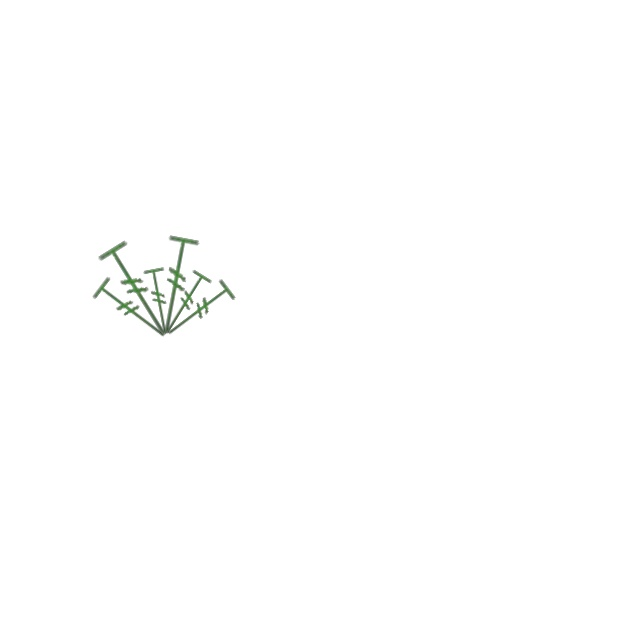half_double: (94, 235, 184, 347), (89, 272, 177, 349), (148, 232, 204, 339), (158, 276, 239, 348), (156, 268, 216, 343), (141, 265, 180, 338)
